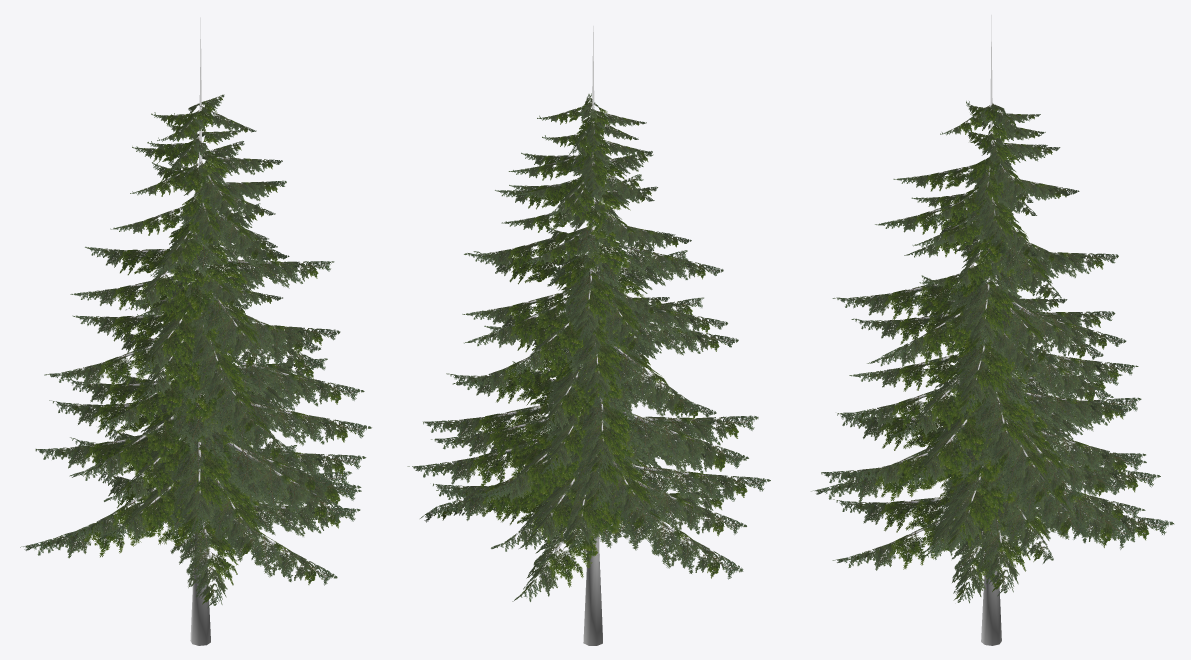
The model's file is Tree2.017.fbx.
3 views of the same model, side by side, from view 1: azimuth 30°, elevation 25°; view 2: azimuth 150°, elevation 25°; view 3: azimuth 270°, elevation 25° (orthographic).
Visible parts, largest first — view 1: Tree2.017; view 2: Tree2.017; view 3: Tree2.017.
Boxes of the visible parts, x1,y1,x2,y2 form: Tree2.017: [20, 17, 371, 645]; Tree2.017: [407, 26, 770, 645]; Tree2.017: [811, 15, 1174, 645].
Bounding box in the file's own units: 1.76 × 3.2 × 1.72.
